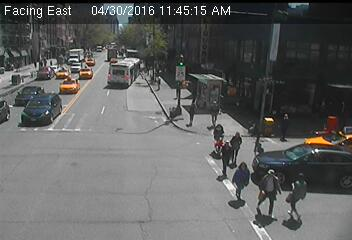neg: (124, 176, 161, 225), (321, 166, 346, 200), (255, 110, 276, 139), (170, 62, 191, 89), (190, 134, 209, 159), (319, 113, 336, 136), (6, 68, 23, 91), (159, 103, 176, 125), (15, 110, 31, 132), (229, 83, 244, 102), (107, 66, 121, 84), (108, 120, 121, 139), (143, 61, 153, 76), (58, 54, 68, 67), (83, 54, 92, 66)
pos: (274, 168, 315, 223), (248, 165, 289, 220), (227, 161, 260, 205), (214, 139, 242, 177), (205, 121, 232, 157), (224, 129, 250, 164), (274, 110, 297, 142), (206, 101, 226, 128), (183, 101, 203, 128), (153, 74, 165, 90), (29, 57, 39, 70), (46, 58, 54, 68)
